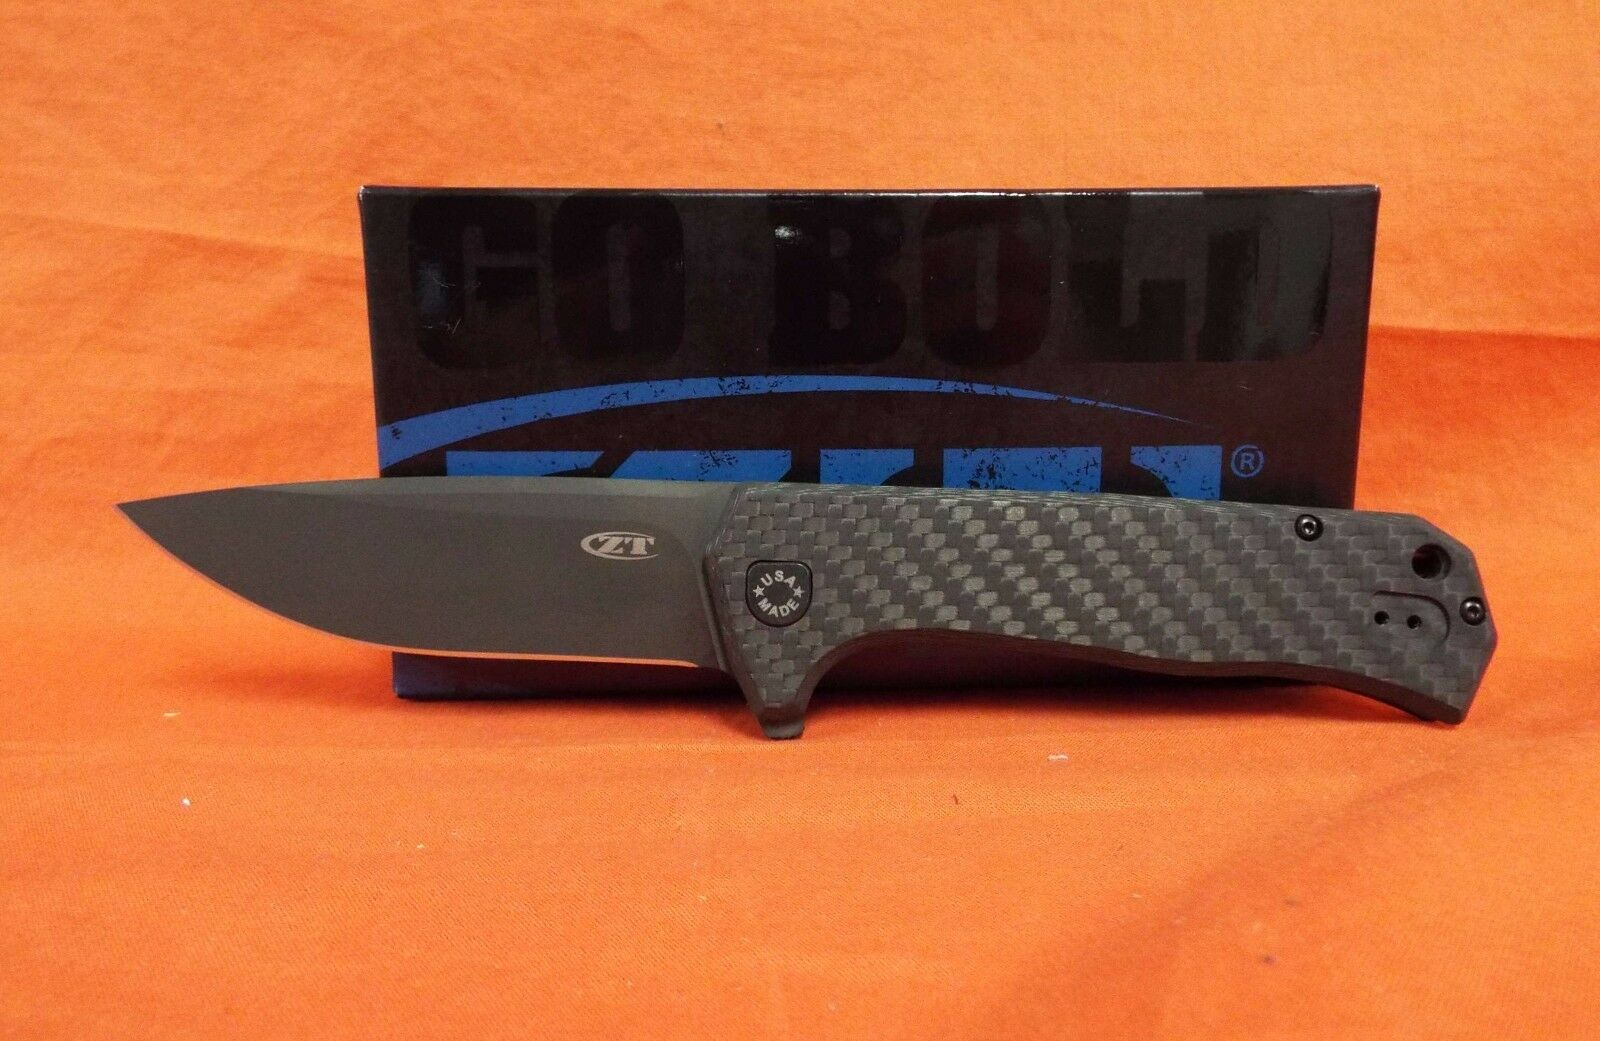knief: (107, 458, 1504, 737)
